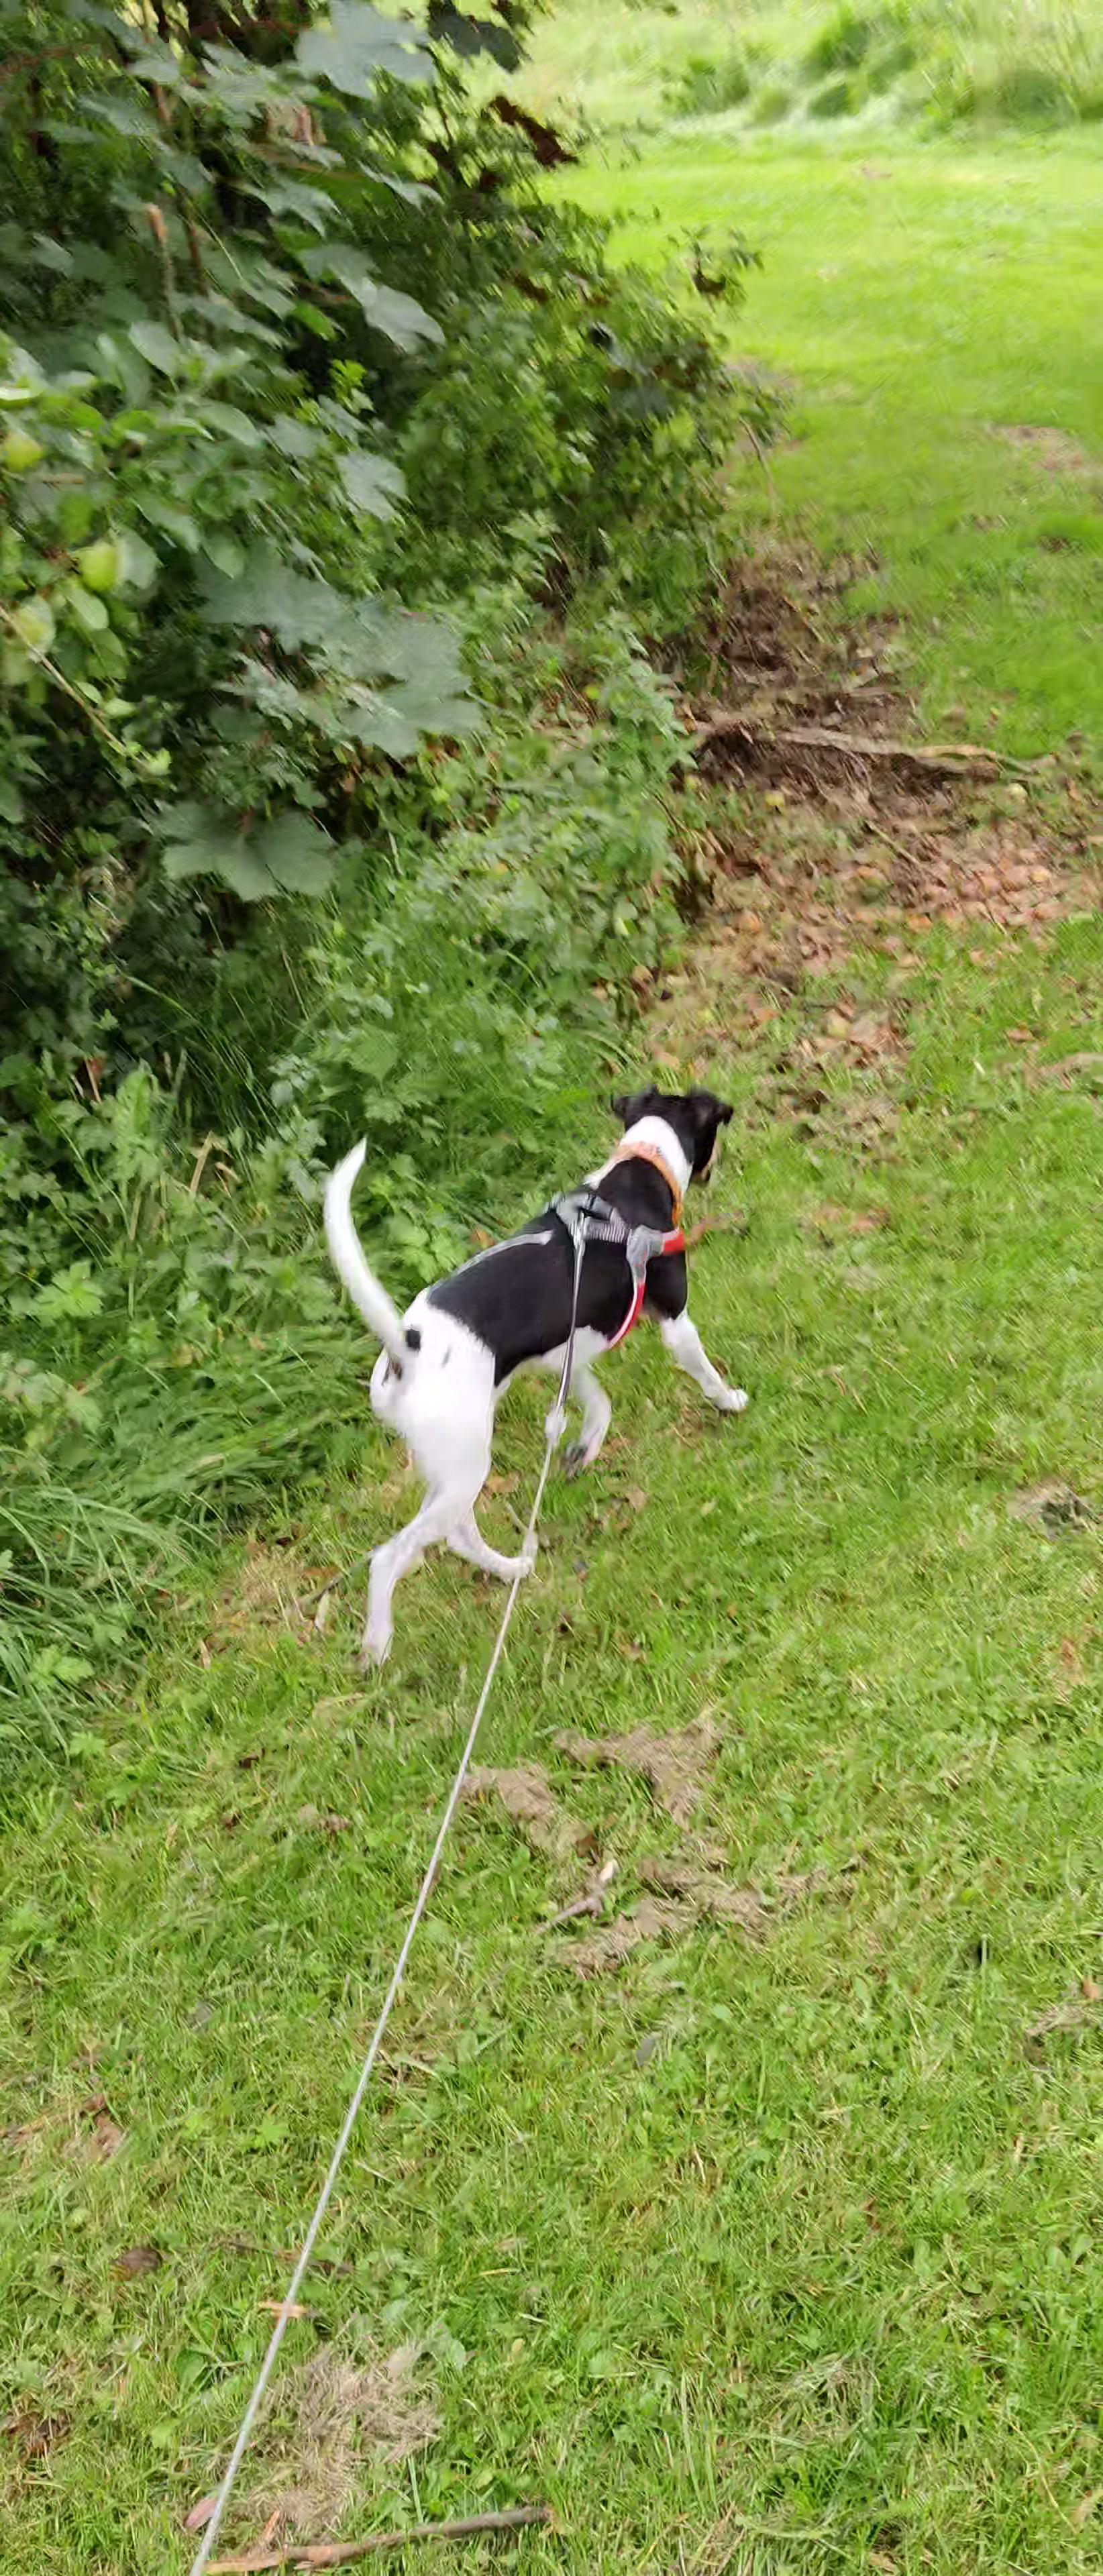Dog: (314, 1081, 755, 1672)
